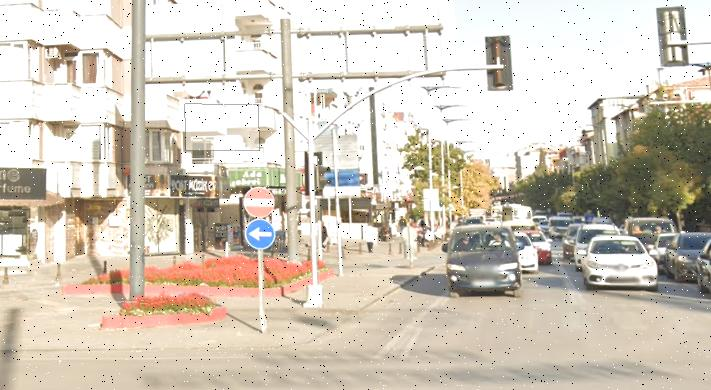turnleft: (246, 219, 277, 249)
